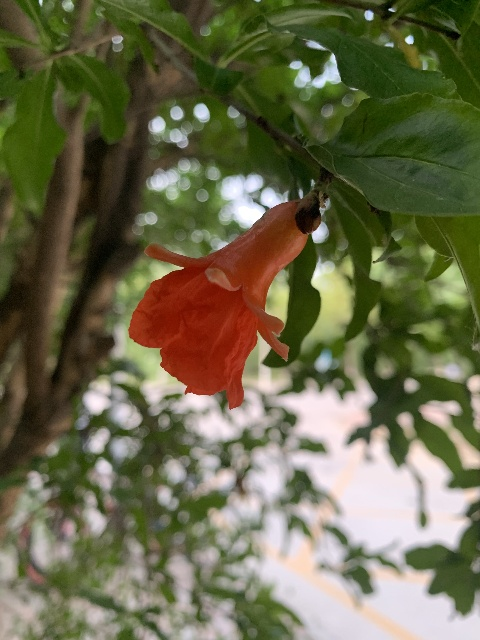flower: (128, 198, 309, 411)
